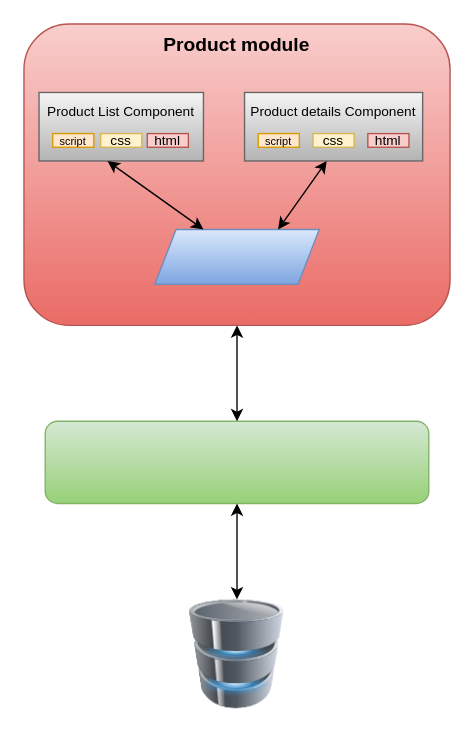
This 474x733 diagram has some shape labels left out. The centre of each missing label's shape, as x and y in pixels:
BACKEND: (236,461)
service: (236,256)
